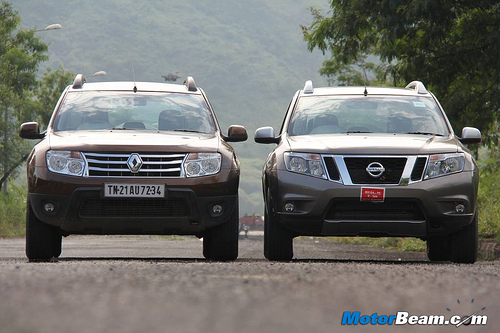number_plate: (105, 182, 169, 198)
